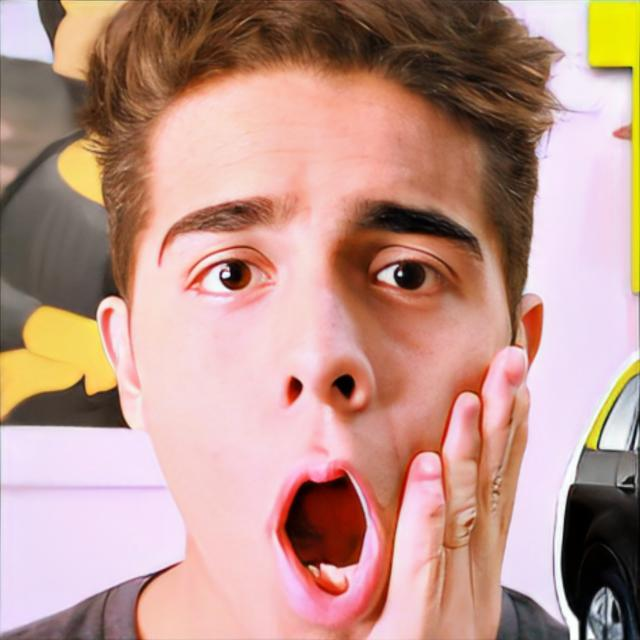fear: (130, 54, 514, 640)
